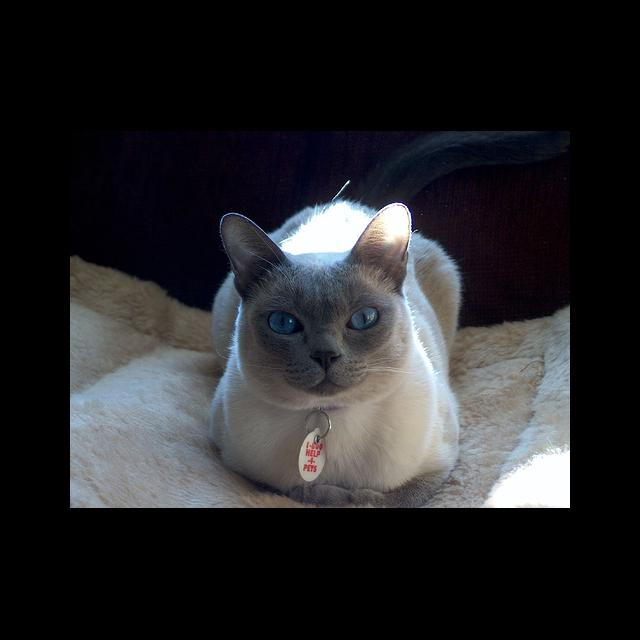animals: (228, 204, 400, 366)
